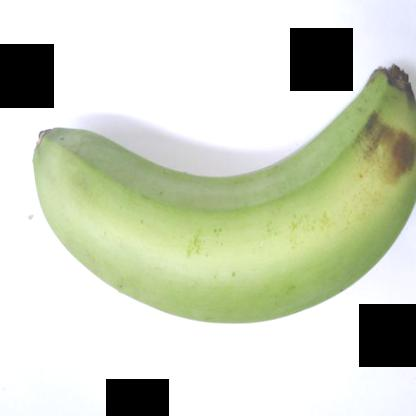freshunripe: (22, 46, 415, 339)
